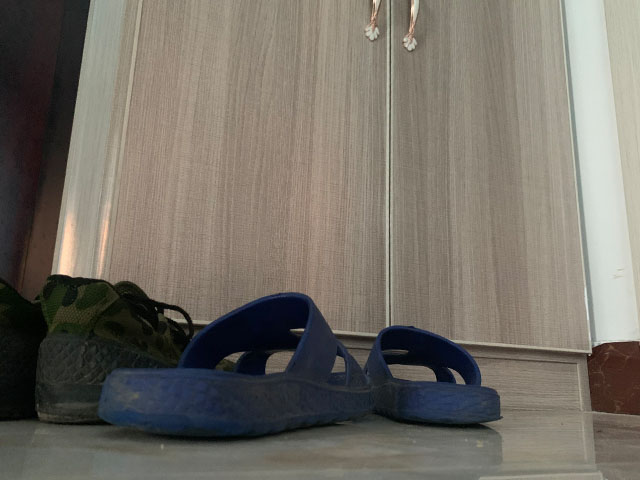cabinet: (50, 1, 594, 413)
slippers: (96, 291, 362, 439), (367, 322, 508, 425)
